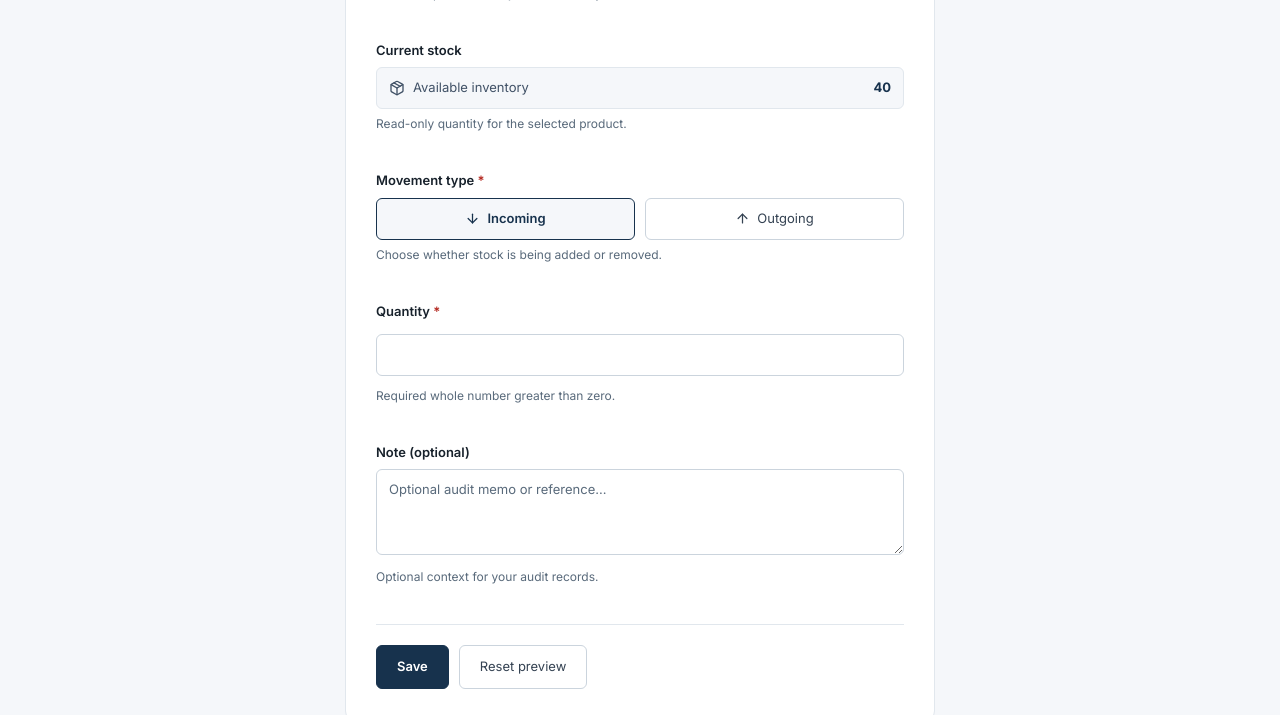
it: RecordMovementPage › uses sample products and never saves in preview mode
The width and height of the screenshot is (1280, 715).
(page scrolled)
Expected: the text "40" is shown, [873, 78, 891, 98]
Type "2" into the number field labelled "Quantity *".
click(640, 355); type("2")  # box [376, 334, 904, 376]
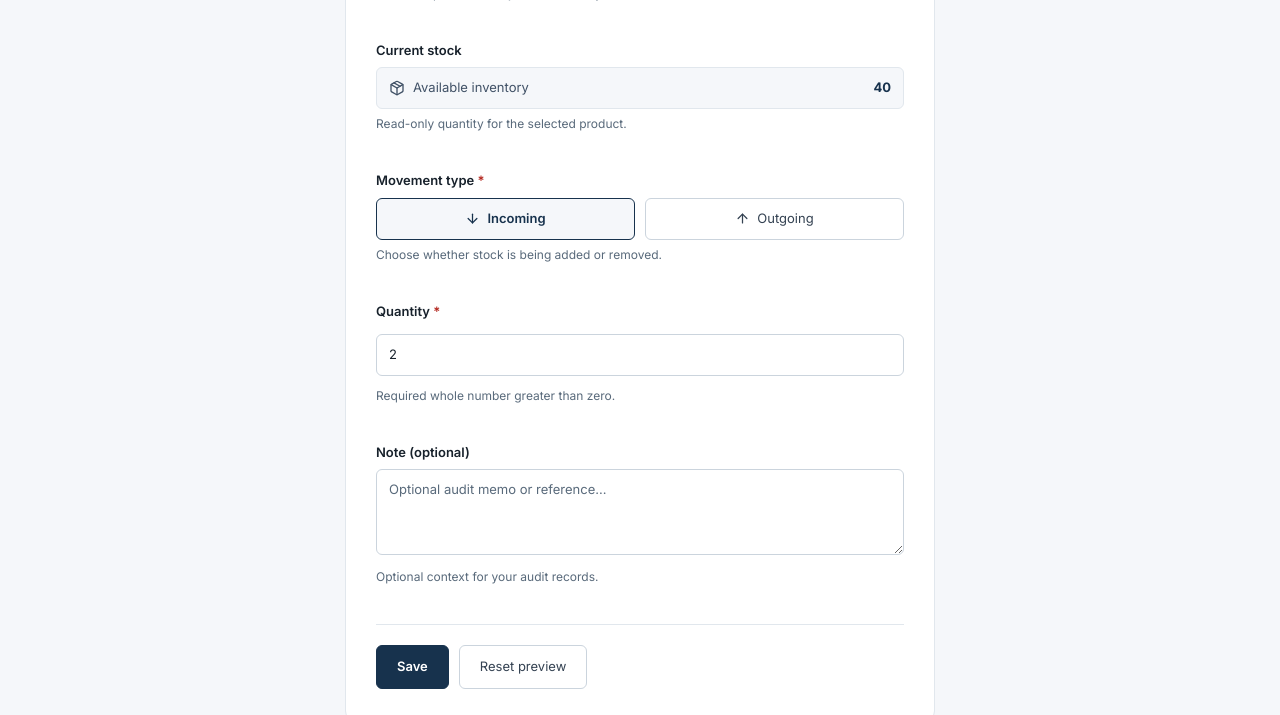
Click the button "Save".
click(412, 667)  # box [376, 645, 449, 689]
(page scrolled)
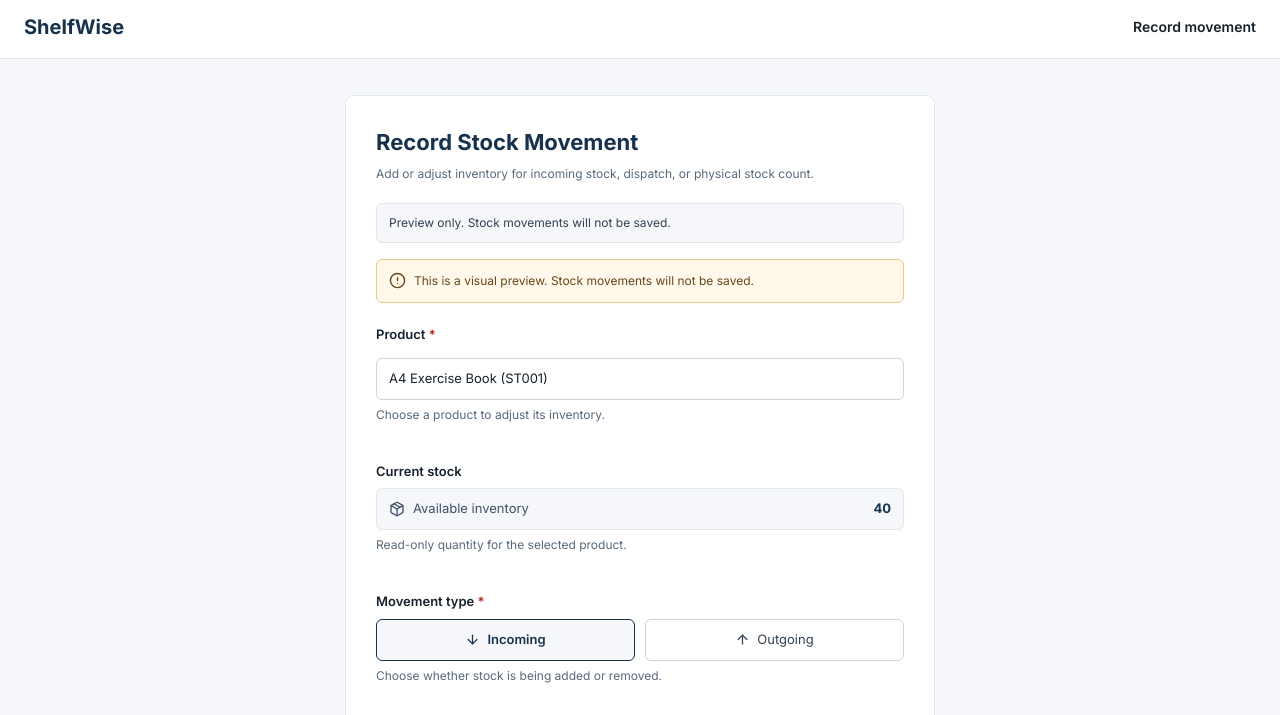
Expected: the message shows "will not be saved", [414, 273, 754, 288]
